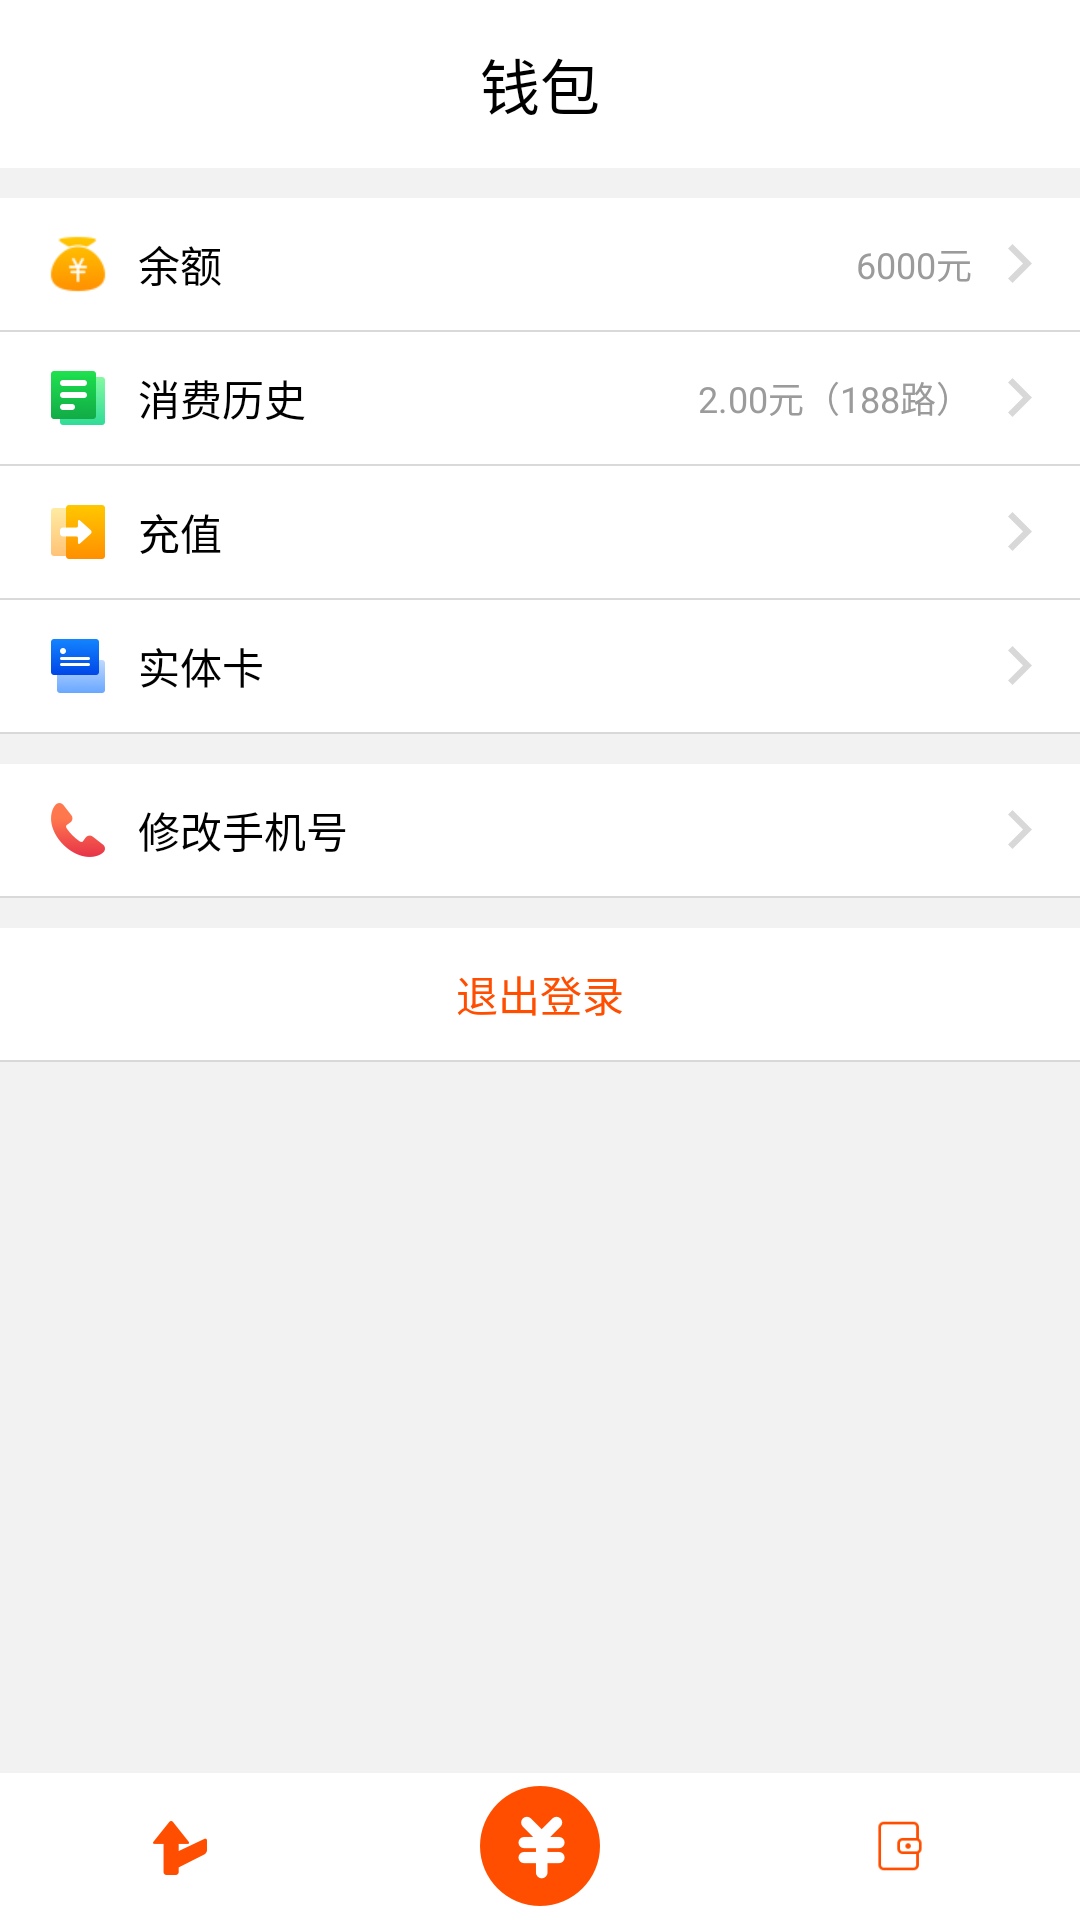

Screen size 1080px x 1920px. Icon name, then its box in pixels as box=[x1, y1, x2, y2]:
balance: box=[50, 236, 106, 292]
card: box=[51, 639, 105, 693]
consumption: box=[51, 371, 105, 425]
jump: box=[1008, 244, 1032, 283], box=[1008, 378, 1032, 417], box=[1008, 512, 1032, 551], box=[1008, 646, 1032, 685], box=[1008, 810, 1032, 849]
payment: box=[480, 1786, 600, 1906]
recharge: box=[51, 505, 105, 559]
route: box=[153, 1821, 207, 1875]
telephone: box=[51, 803, 105, 857]
wallet: box=[878, 1821, 922, 1871]
